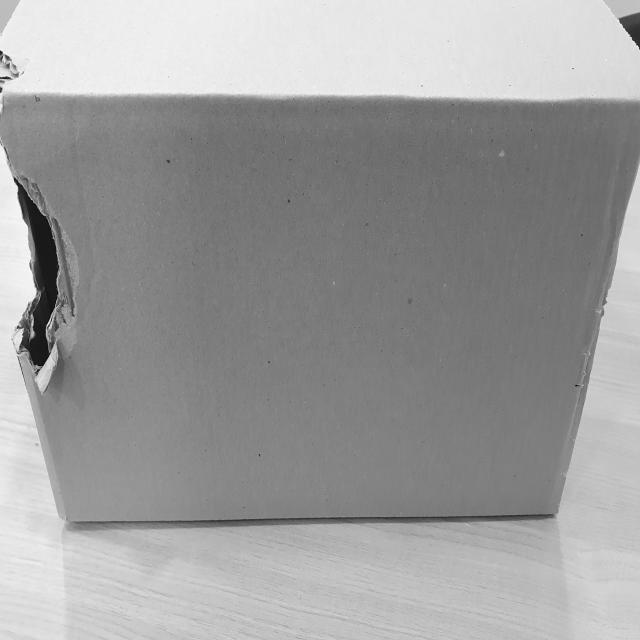hole: (8, 176, 68, 387)
